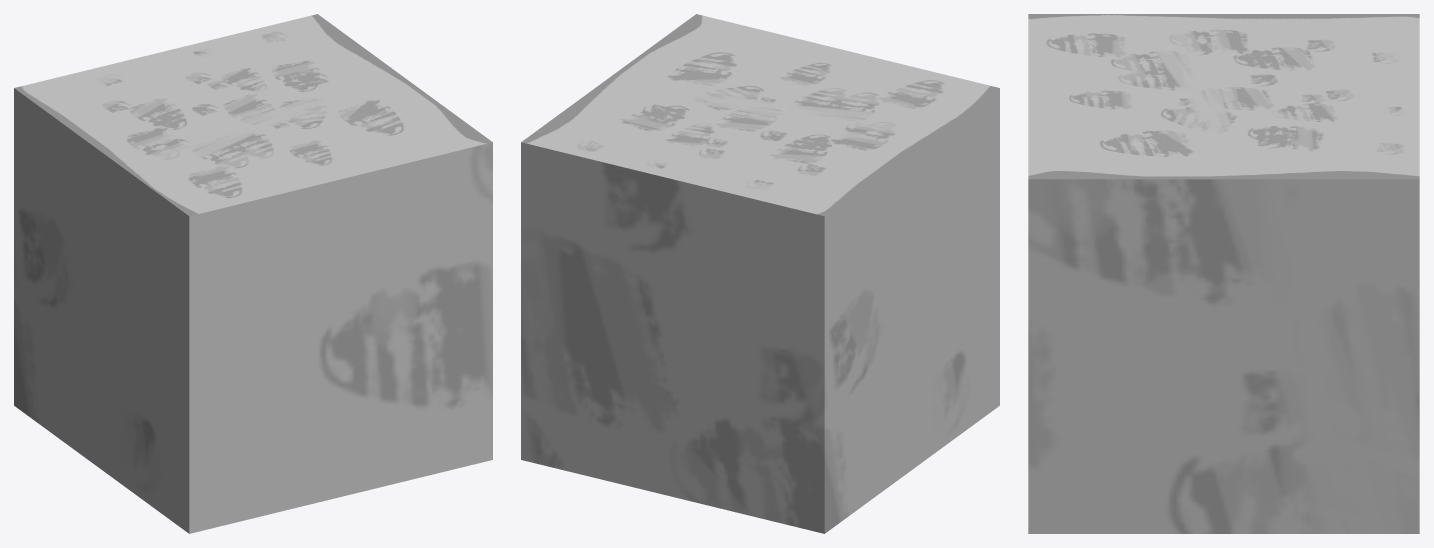
Rendered from CubeHighPoly.fbx.
The picture shows the model from 3 angles, left to right: view 1: azimuth 30°, elevation 25°; view 2: azimuth 150°, elevation 25°; view 3: azimuth 270°, elevation 25°; orthographic projection. The views are drawn at different scales.
Visible parts, largest first — view 1: Cube; view 2: Cube; view 3: Cube.
Part boxes in pixels (left/top/right/bottom): Cube: left=14, top=14, right=492, bottom=533; Cube: left=521, top=14, right=999, bottom=533; Cube: left=1028, top=14, right=1419, bottom=533.
Size of the model in its own units: 200 by 200 by 200.
1 material, 1 textured.
